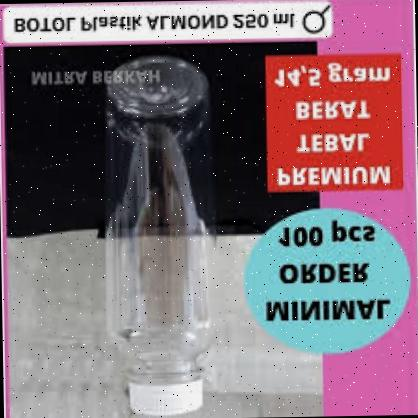bottle: (85, 53, 234, 418)
cap: (124, 374, 211, 414)
